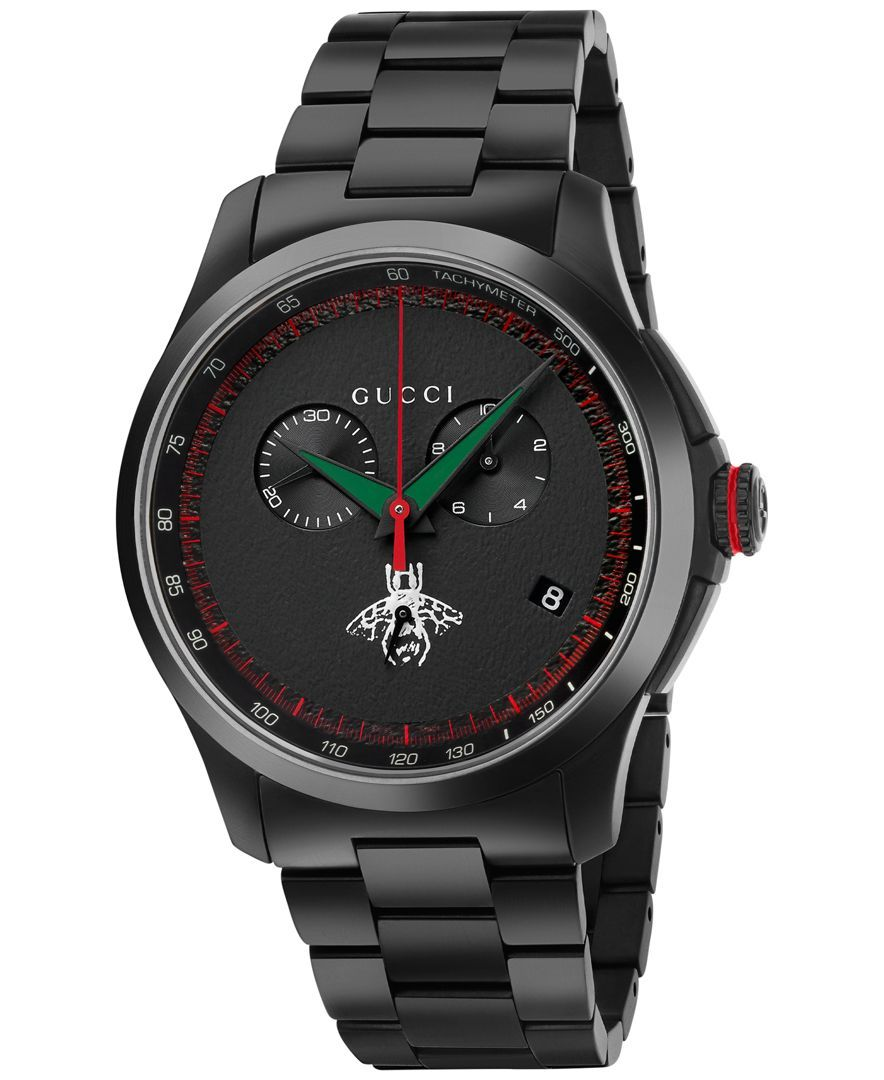clock: (114, 218, 712, 816)
